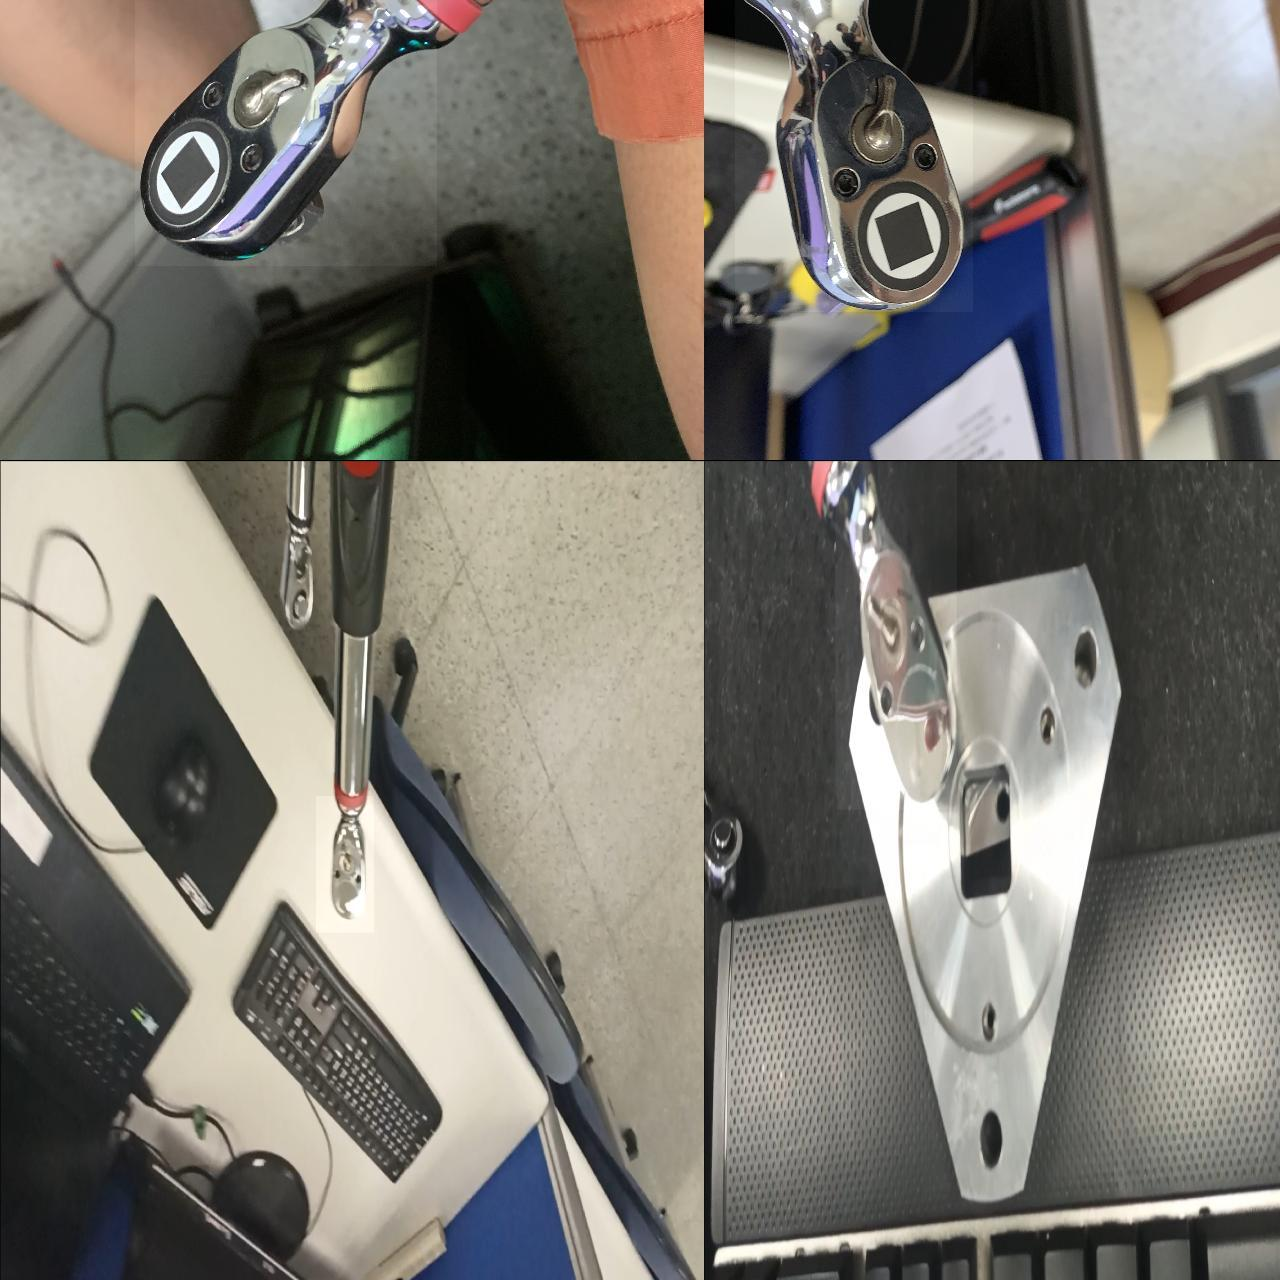Tool: (134, 0, 436, 265), (734, 0, 972, 311), (835, 459, 956, 808), (315, 795, 374, 932), (704, 794, 744, 908), (277, 526, 318, 638)
